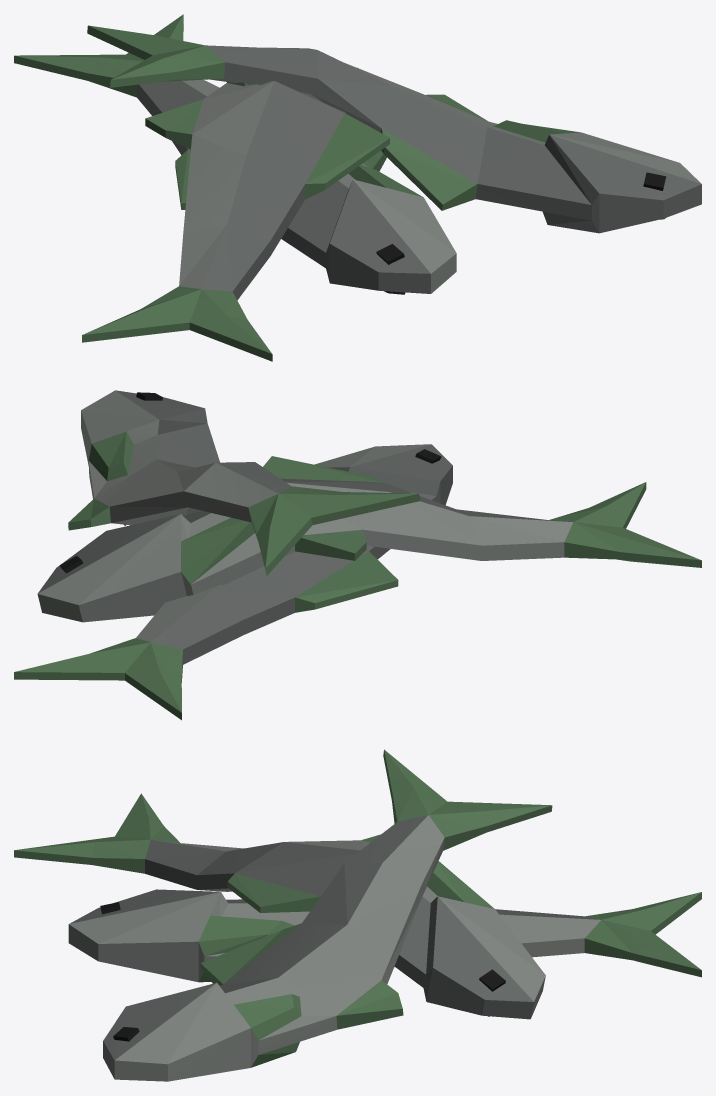
File: Pescados_01.glb
3 views of the same model, one above another, from view 1: azimuth 30°, elevation 25°; view 2: azimuth 150°, elevation 25°; view 3: azimuth 270°, elevation 25° (orthographic). The views are drawn at different scales.
Parts seen in each view (by area): view 1: SM_Prop_Fish_Pile_01_1; view 2: SM_Prop_Fish_Pile_01_1; view 3: SM_Prop_Fish_Pile_01_1.
Boxes of the visible parts, x1,y1,x2,y2 form: SM_Prop_Fish_Pile_01_1: (14,14,701,361); SM_Prop_Fish_Pile_01_1: (14,390,701,720); SM_Prop_Fish_Pile_01_1: (14,749,701,1081).
Bounding box in the file's own units: 0.9728 × 0.2521 × 1.
Materials: 1 (1 with a texture image).
